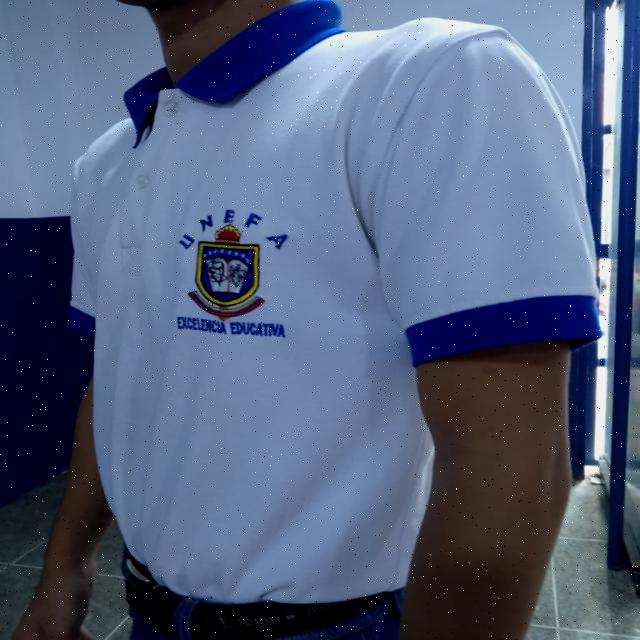uniforme_superior: (66, 0, 601, 605)
